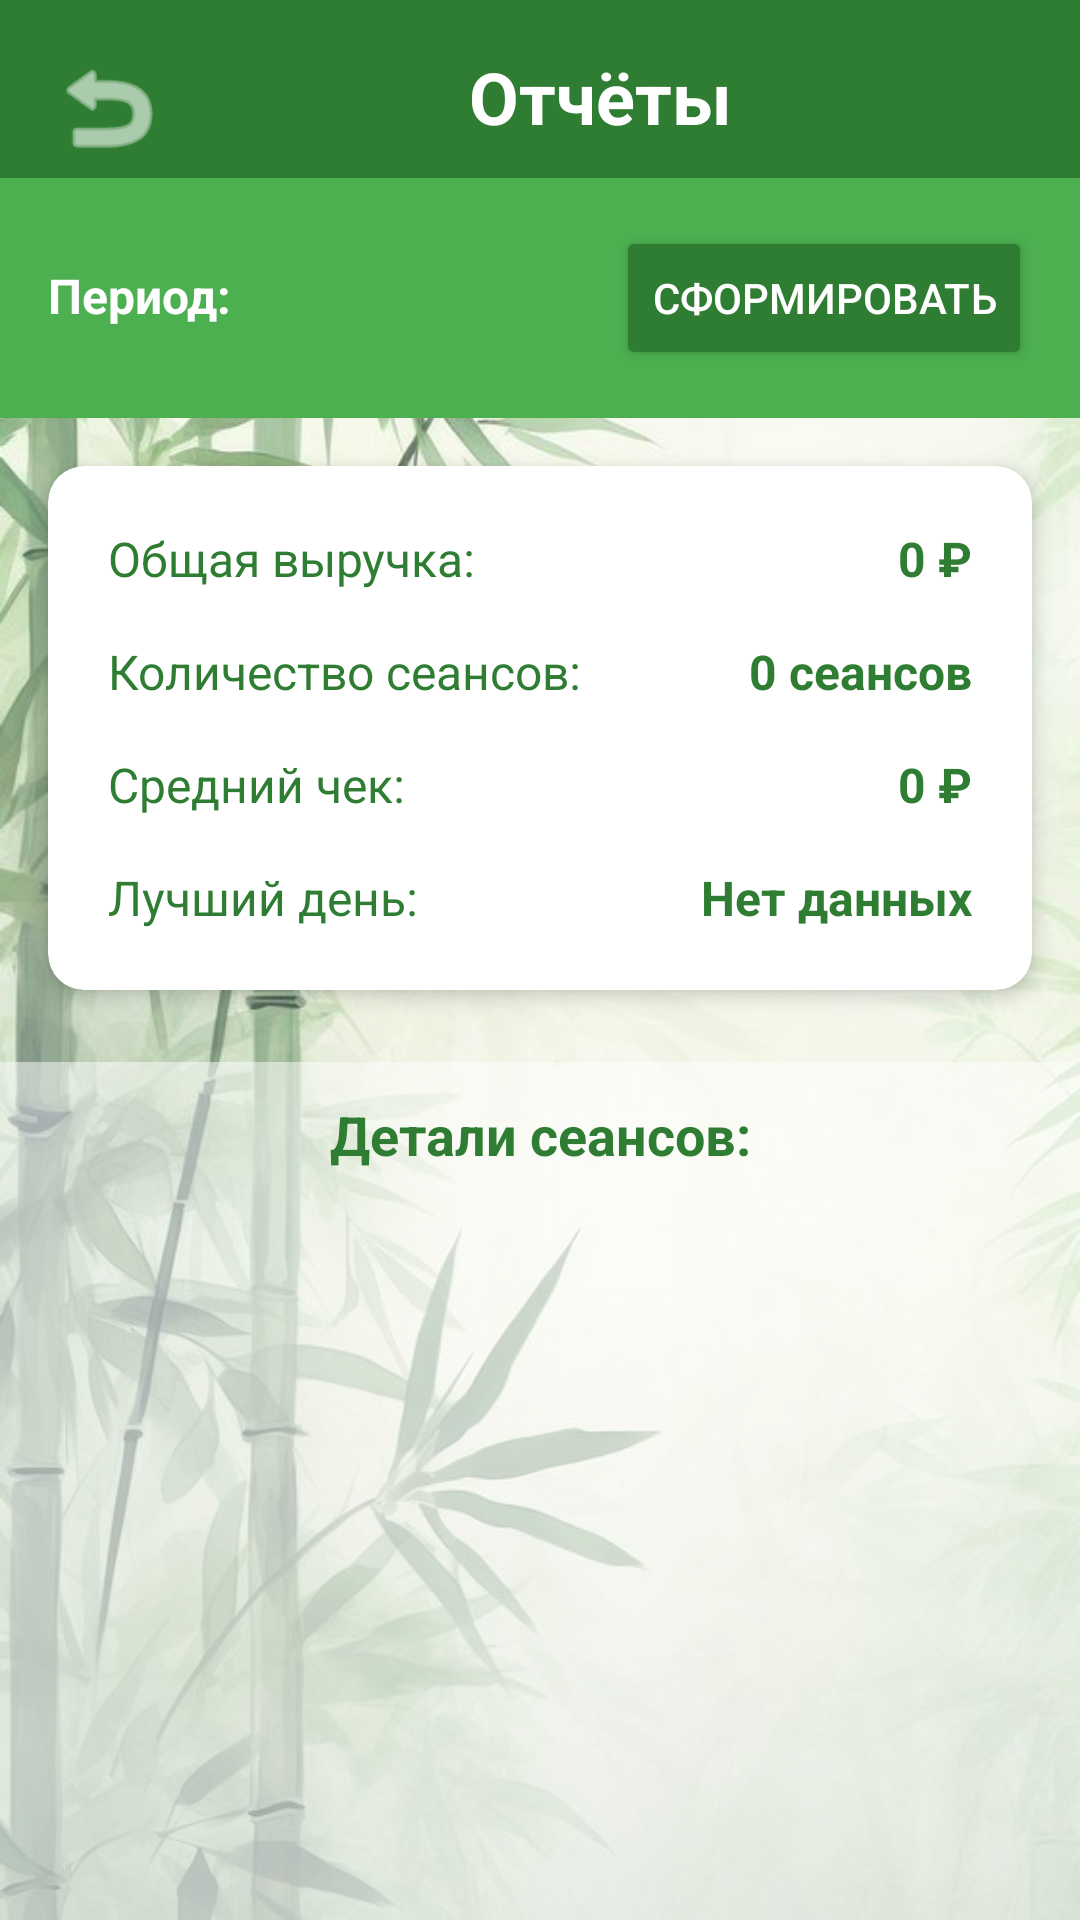

Icon click points for this 1080 × 1920 phone screenshot, format (x,y):
Назад: (109,109)
